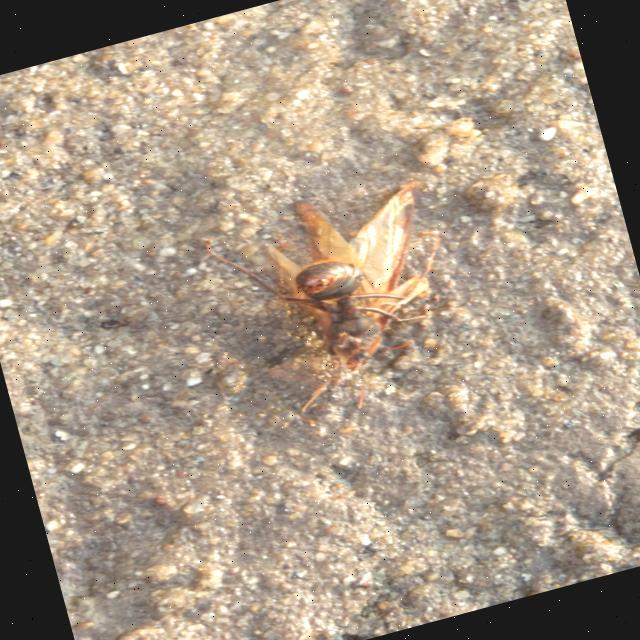Dead-Male-Alate: (198, 166, 479, 437)
